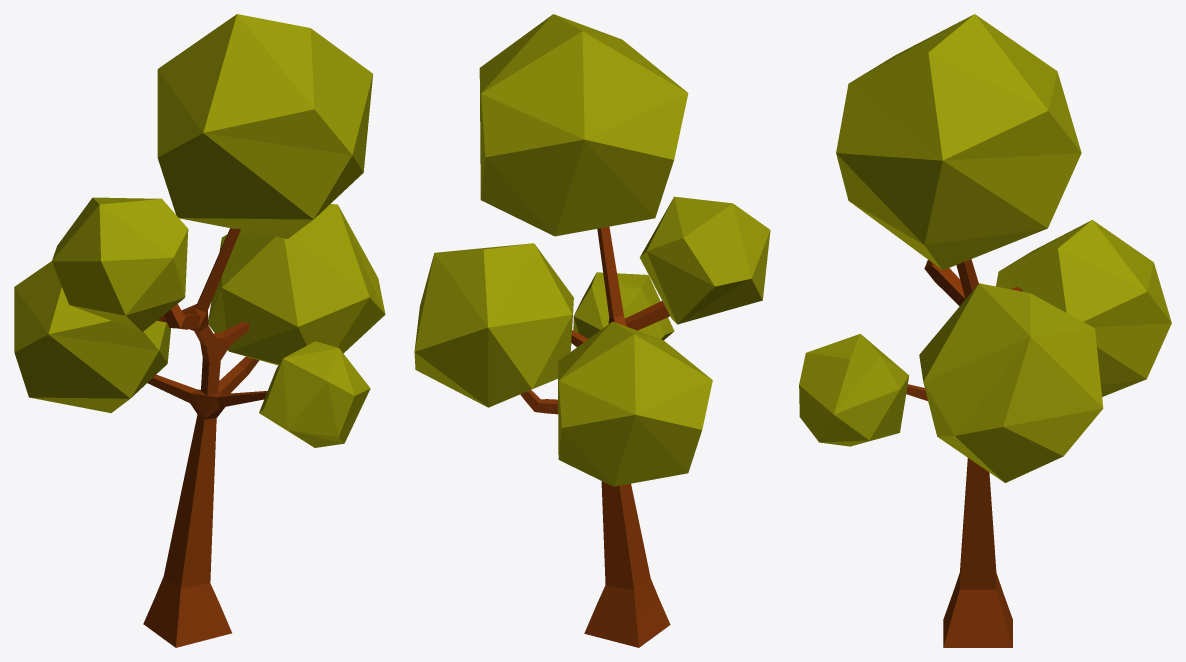
Rendered from treeSharFullAutmun.fbx.
The picture shows the model from 3 angles, left to right: view 1: azimuth 30°, elevation 25°; view 2: azimuth 150°, elevation 25°; view 3: azimuth 270°, elevation 25°; orthographic projection. The views are drawn at different scales.
Parts seen in each view (by area): view 1: Plane; view 2: Plane; view 3: Plane.
Boxes of the visible parts, x1=… form: Plane: x1=14, y1=14, x2=385, y2=647; Plane: x1=414, y1=14, x2=770, y2=647; Plane: x1=799, y1=14, x2=1171, y2=647.
Bounding box in the file's own units: 201 × 348 × 182.
